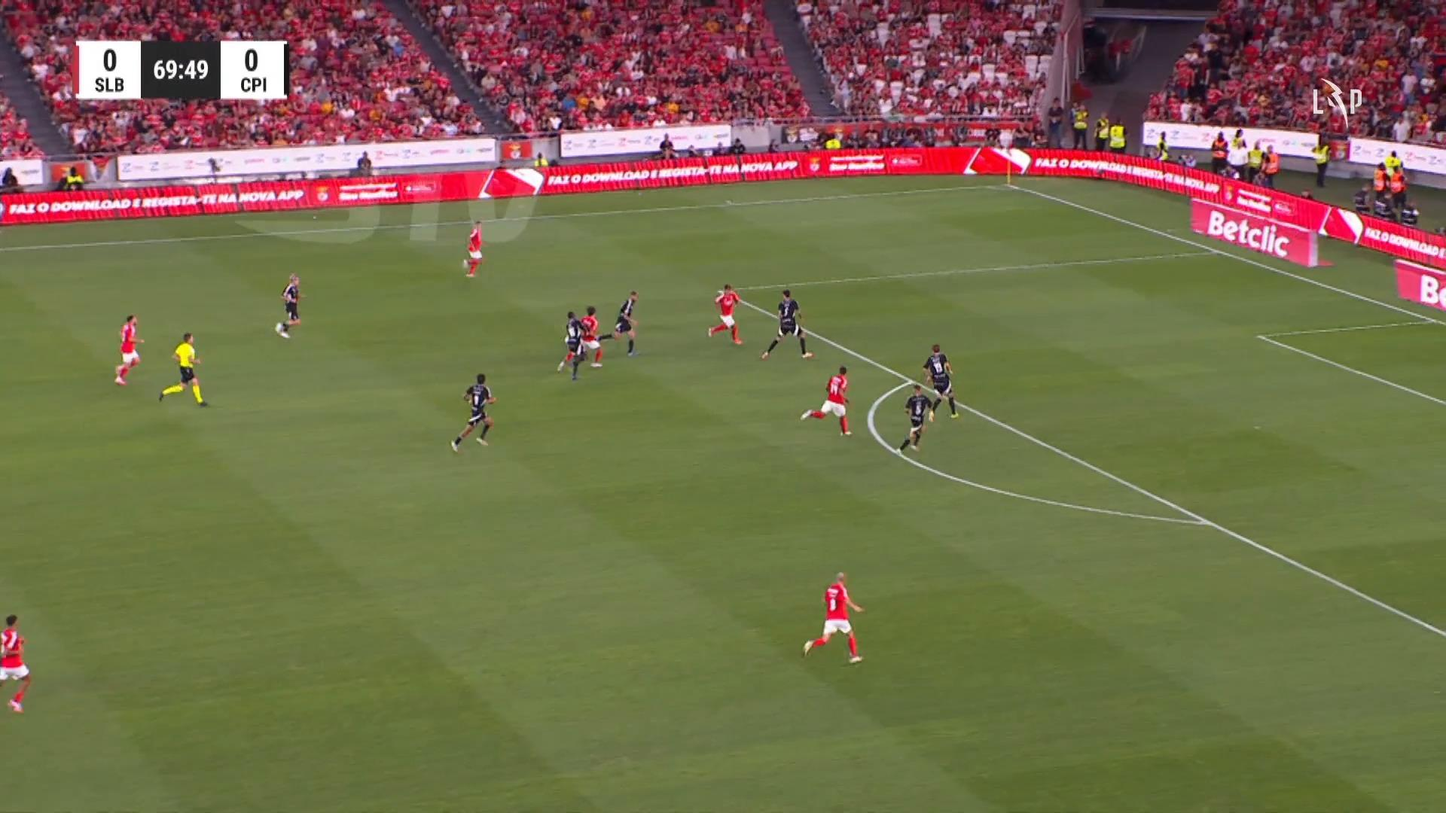ball: (484, 415, 493, 426), (461, 259, 468, 268)
player: (801, 571, 865, 664), (760, 288, 814, 360), (799, 365, 852, 436), (449, 372, 496, 452), (0, 614, 32, 713), (922, 343, 959, 421), (897, 383, 933, 452), (706, 282, 744, 346), (113, 313, 145, 385), (556, 310, 587, 380), (274, 273, 305, 339), (611, 290, 640, 356), (578, 305, 604, 368), (462, 219, 484, 277)
referee: (157, 331, 208, 406)
